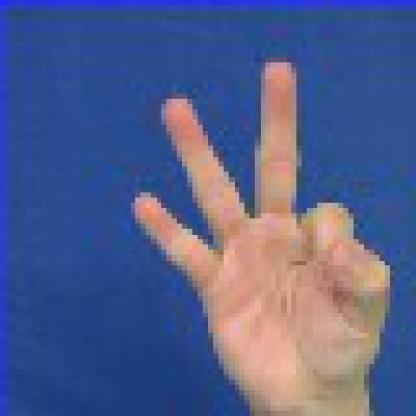three: (120, 18, 399, 415)
